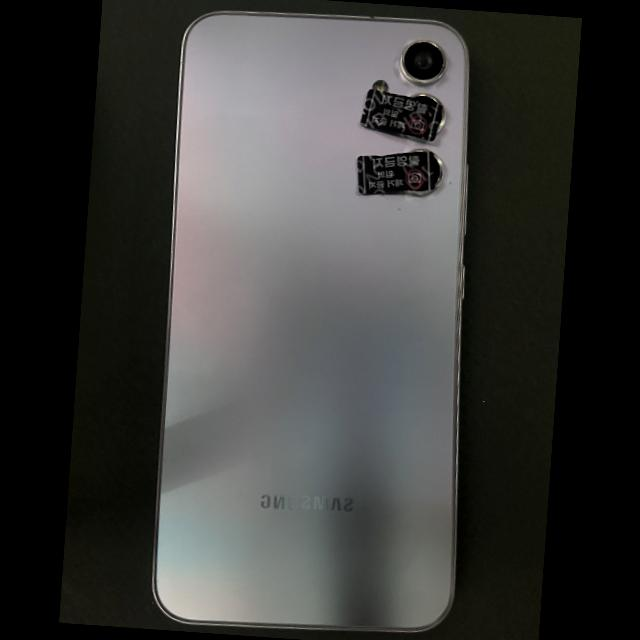lens: (400, 40, 445, 85), (406, 149, 442, 195), (409, 93, 441, 104)
phone: (151, 10, 468, 633)
sticker: (359, 88, 442, 141), (356, 151, 434, 195)
